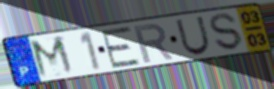1: (79, 30, 103, 71)
E: (99, 25, 142, 70)
M: (28, 34, 78, 80)
R: (131, 22, 176, 65)
S: (208, 12, 245, 52)
U: (174, 15, 212, 57)
